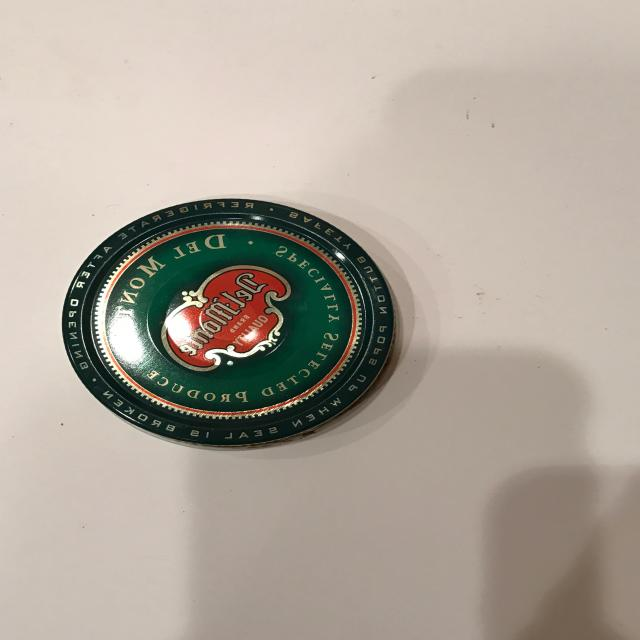metal: (61, 196, 397, 451)
